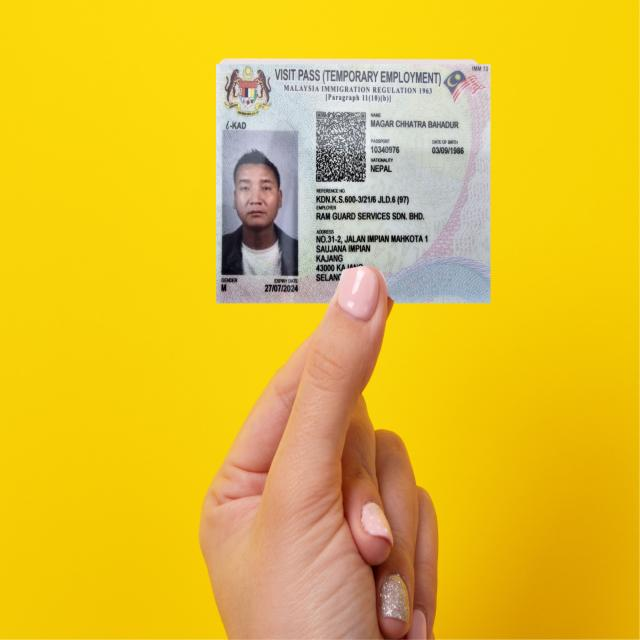ikad-temp: (214, 52, 494, 308)
